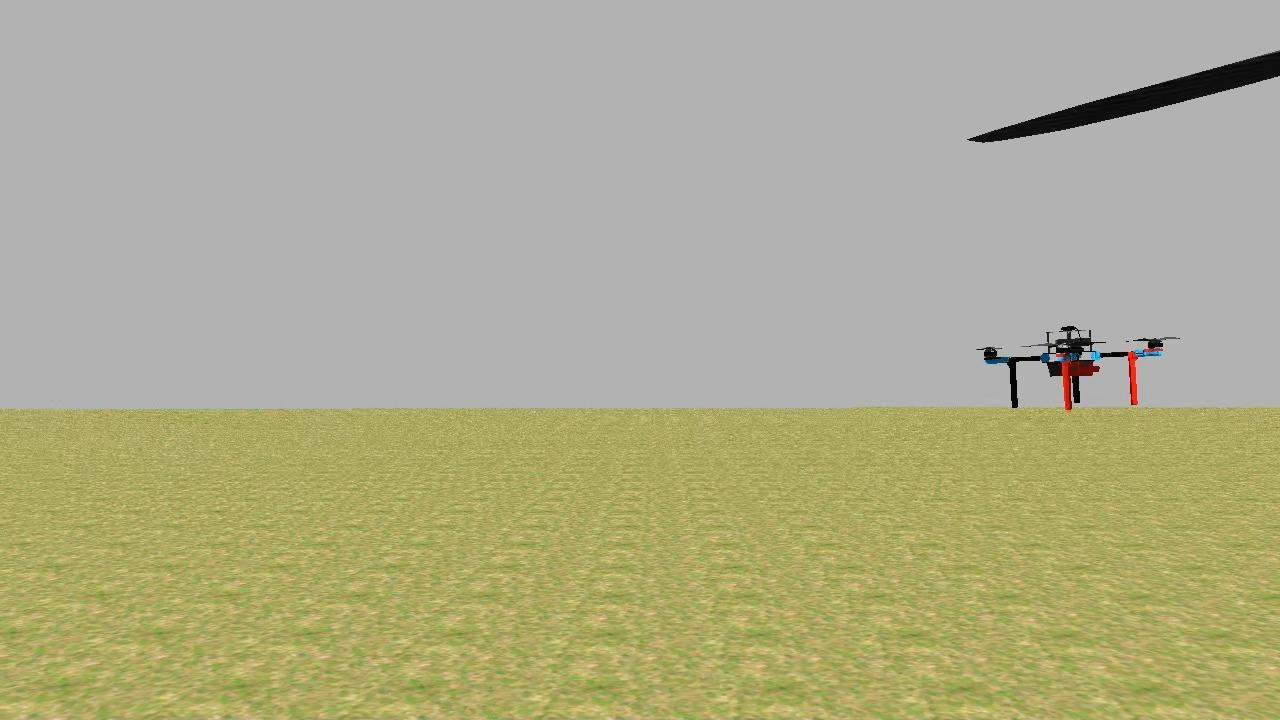UAV: (958, 312, 1192, 435)
